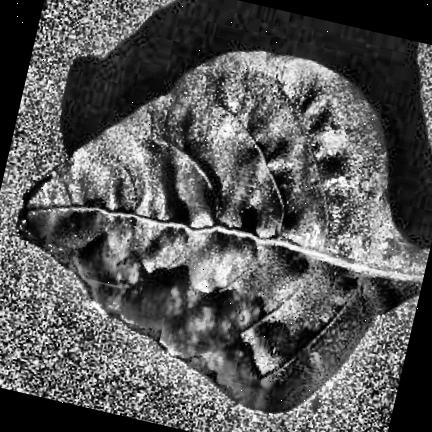leaf: (16, 47, 427, 411)
